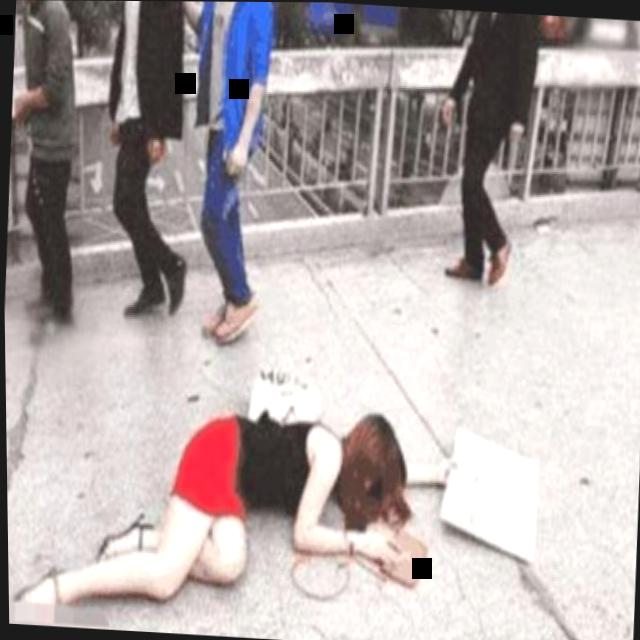Fall-Detected: (7, 369, 439, 640)
